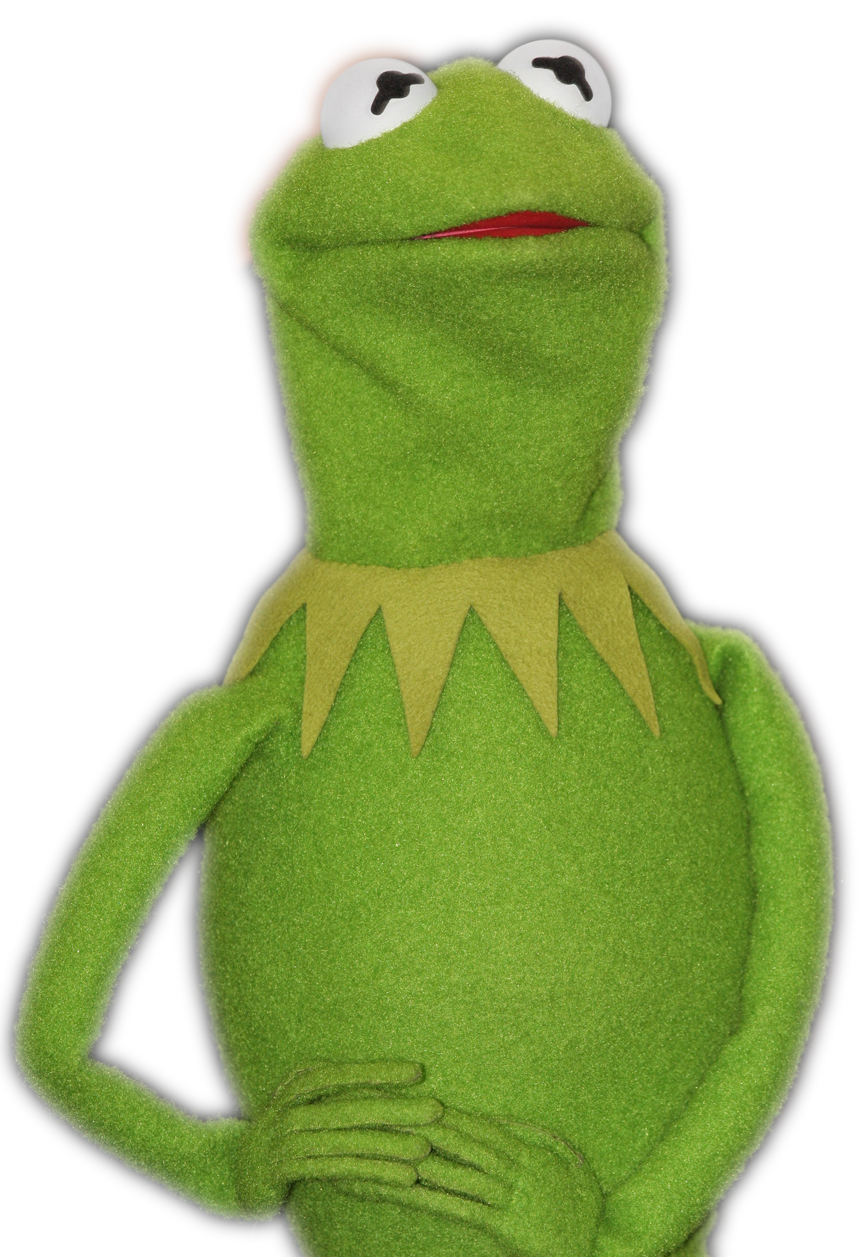kermit: (239, 25, 684, 557)
